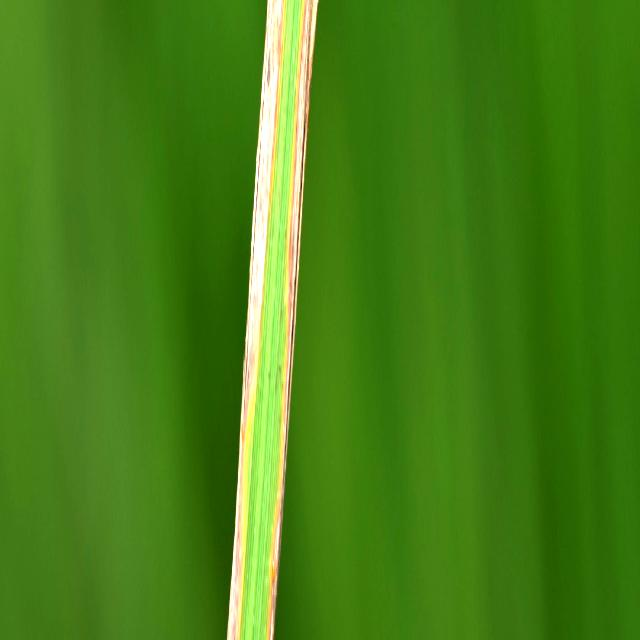BLB: (228, 0, 286, 636), (267, 0, 317, 636)
